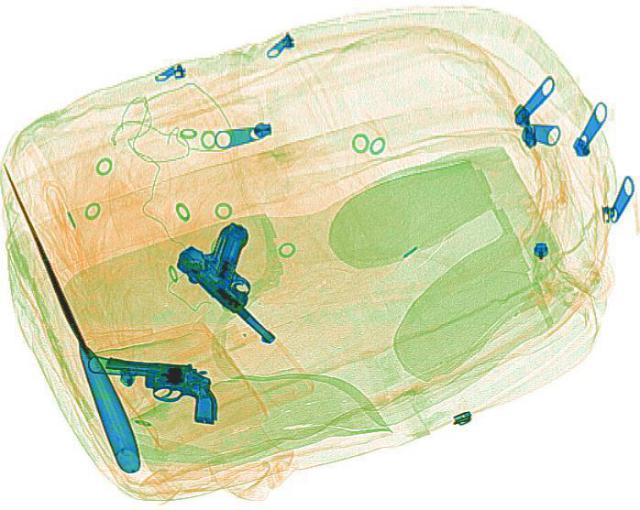Gun: (166, 217, 332, 341), (77, 352, 226, 423)
Knife: (0, 179, 146, 473)
